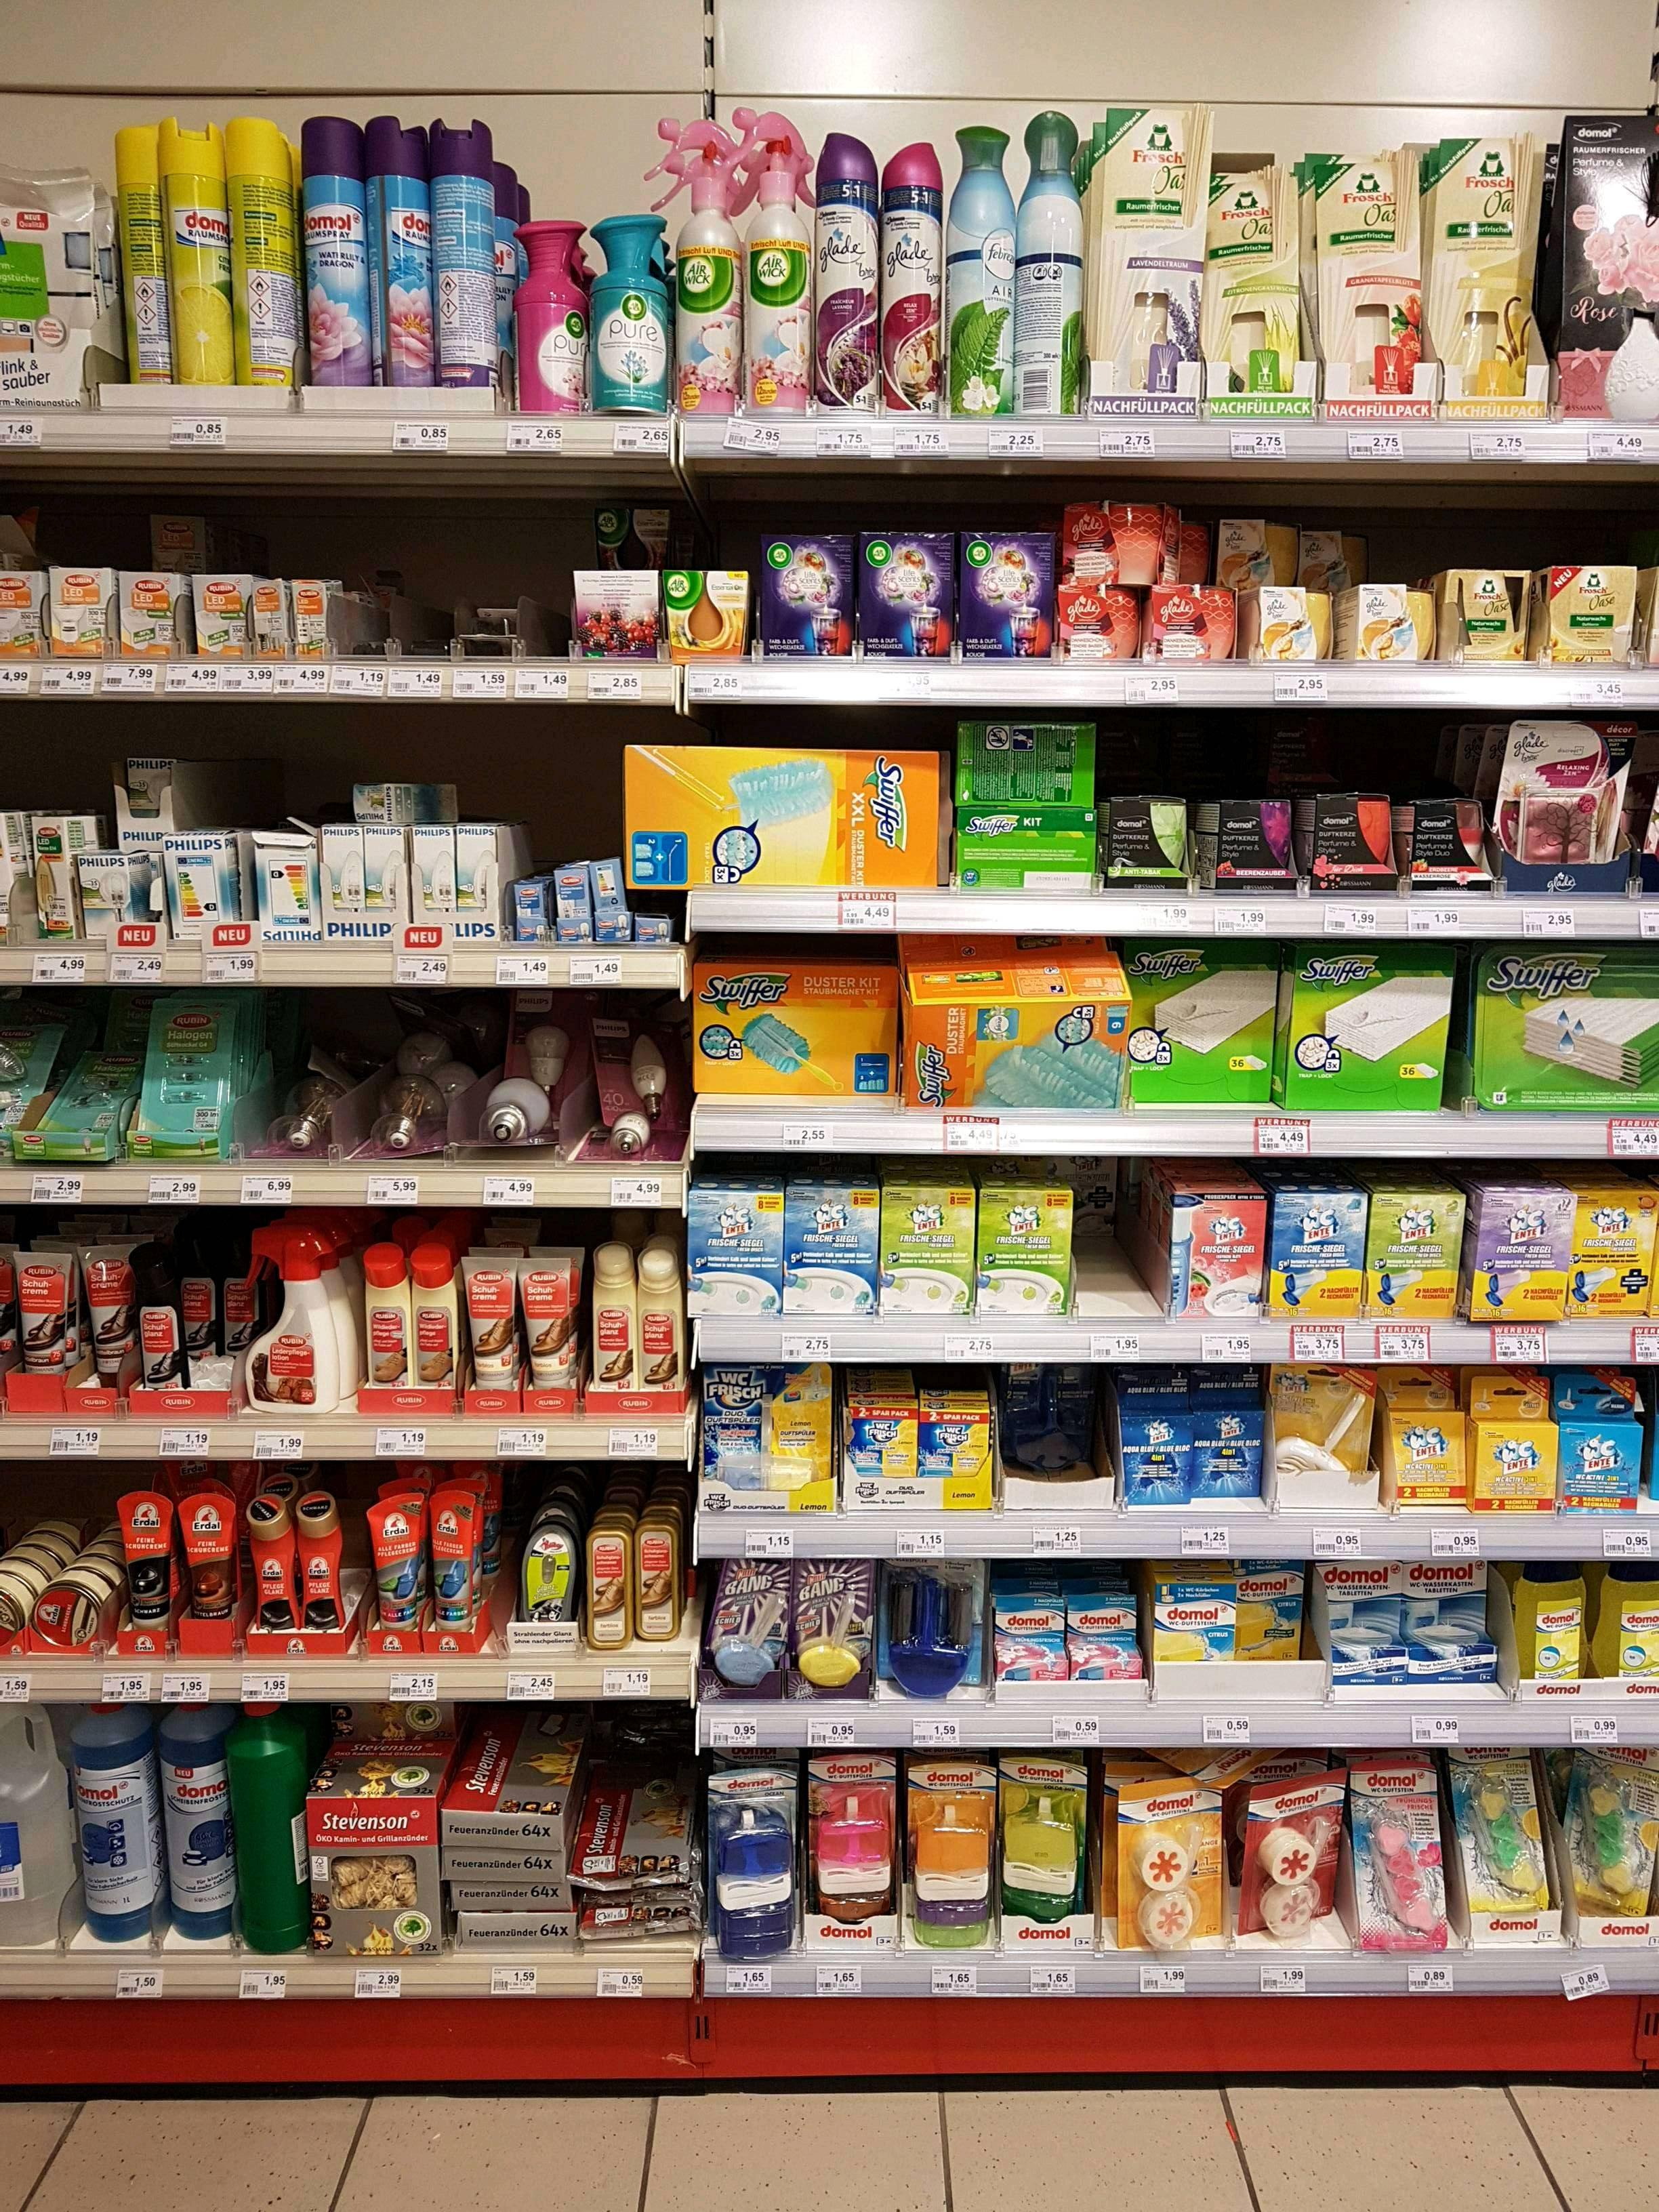misalignment: (629, 740, 945, 888), (899, 972, 1133, 1109), (1112, 1777, 1232, 1952), (1249, 1766, 1340, 1940), (345, 770, 477, 822)
